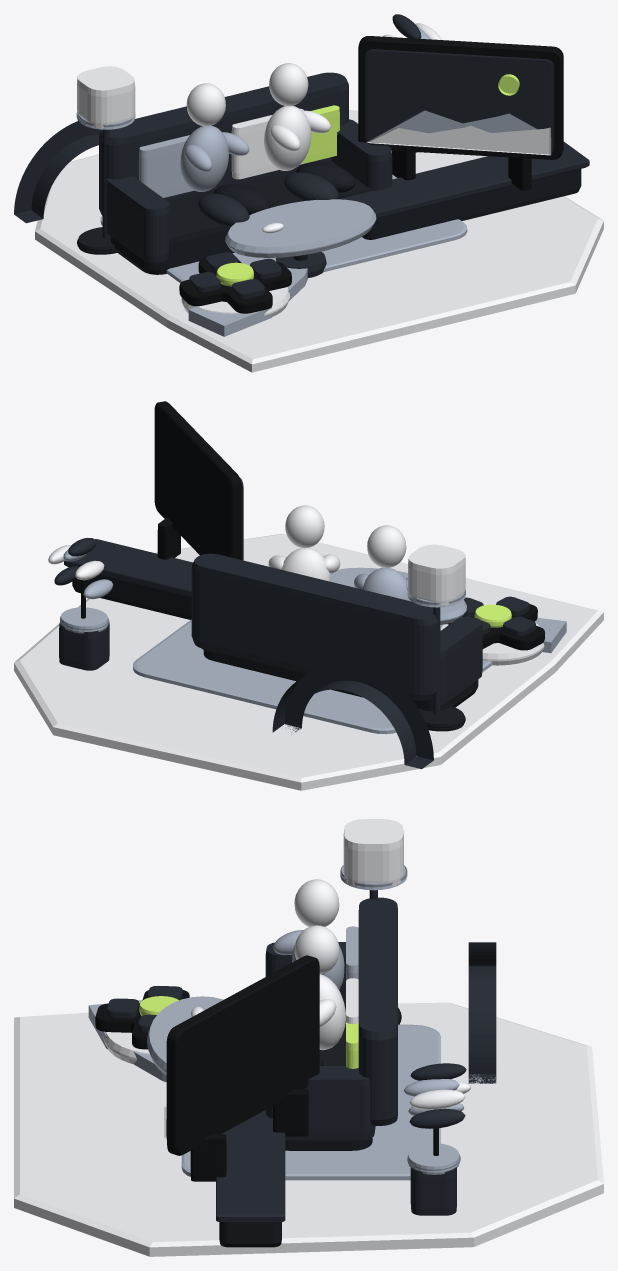
Rendered from footer-mobile.glb.
3 views of the same model, one above another, from view 1: azimuth 30°, elevation 25°; view 2: azimuth 150°, elevation 25°; view 3: azimuth 270°, elevation 25° (orthographic). The views are drawn at different scales.
Parts seen in each view (by area): view 1: portrait-porcelain-room-ground, unbranded-tv-screen, sofa-back, coffee-table-top, tv-console-top, unbranded-tv-frame, sofa-seat, tv-console, sofa-arm-left, portrait-rug, portrait-open-doorway, tv-still-hill-b (+29 smaller); view 2: portrait-porcelain-room-ground, sofa-back, unbranded-tv-frame, portrait-rug, portrait-open-doorway, tv-console-top, sofa-arm-left, floor-lamp-shade, tv-console, plant-pot, sofa-seat, person-two-head (+12 smaller); view 3: portrait-porcelain-room-ground, unbranded-tv-frame, sofa-back, portrait-rug, tv-console-top, sofa-arm-right, portrait-open-doorway, floor-lamp-shade, plant-pot, coffee-table-top, person-one-head, tv-console (+18 smaller).
Boxes of the visible parts, x1,y1,x2,y2 form: portrait-porcelain-room-ground: [35, 110, 603, 372]; unbranded-tv-screen: [365, 49, 553, 154]; sofa-back: [99, 72, 348, 215]; coffee-table-top: [225, 199, 376, 257]; tv-console-top: [341, 141, 589, 218]; unbranded-tv-frame: [358, 36, 563, 159]; sofa-seat: [110, 161, 373, 274]; tv-console: [362, 169, 581, 239]; sofa-arm-left: [106, 176, 169, 262]; portrait-rug: [100, 174, 467, 283]; portrait-open-doorway: [14, 121, 101, 223]; tv-still-hill-b: [367, 126, 550, 155]; portrait-porcelain-room-ground: [14, 533, 603, 790]; sofa-back: [191, 553, 438, 700]; unbranded-tv-frame: [154, 401, 241, 559]; portrait-rug: [133, 619, 492, 734]; portrait-open-doorway: [272, 662, 433, 769]; tv-console-top: [64, 539, 193, 596]; sofa-arm-left: [422, 616, 482, 705]; floor-lamp-shade: [408, 544, 465, 606]; tv-console: [72, 574, 191, 619]; plant-pot: [59, 621, 109, 670]; sofa-seat: [203, 650, 478, 711]; person-two-head: [285, 505, 324, 548]; portrait-porcelain-room-ground: [14, 1002, 603, 1256]; unbranded-tv-frame: [167, 955, 319, 1155]; sofa-back: [358, 897, 397, 1125]; portrait-rug: [181, 1024, 440, 1180]; tv-console-top: [216, 1110, 285, 1221]; sofa-arm-right: [265, 1066, 375, 1140]; portrait-open-doorway: [468, 942, 496, 1083]; floor-lamp-shade: [343, 819, 403, 886]; plant-pot: [410, 1167, 456, 1215]; coffee-table-top: [147, 996, 223, 1075]; person-one-head: [294, 879, 339, 926]; tv-console: [219, 1222, 281, 1247].
Bounding box in the file's own units: 5.19 × 2.02 × 5.1.
